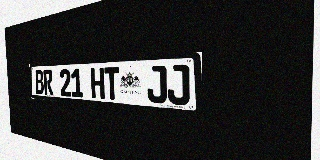1: (70, 68, 83, 97)
2: (60, 69, 71, 97)
B: (35, 70, 44, 95)
H: (90, 68, 105, 99)
J: (167, 64, 190, 106), (147, 65, 167, 104)
R: (43, 70, 53, 95)
T: (104, 67, 120, 100)
